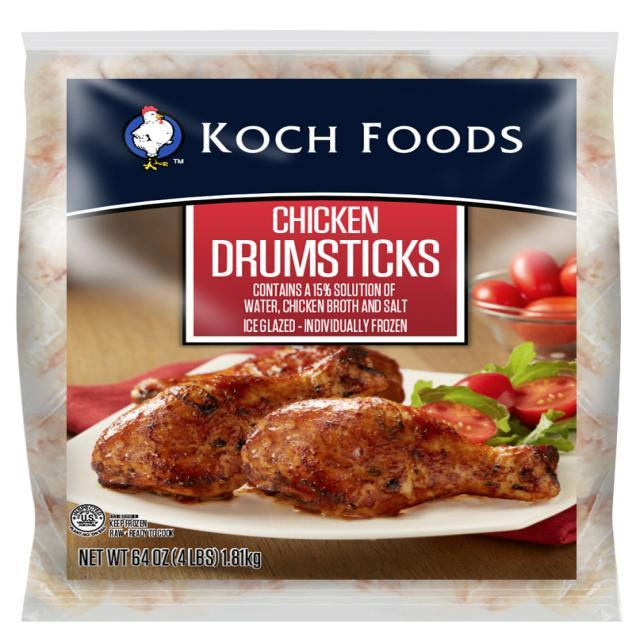leg: (238, 402, 558, 524), (70, 362, 346, 488), (117, 332, 405, 414)
